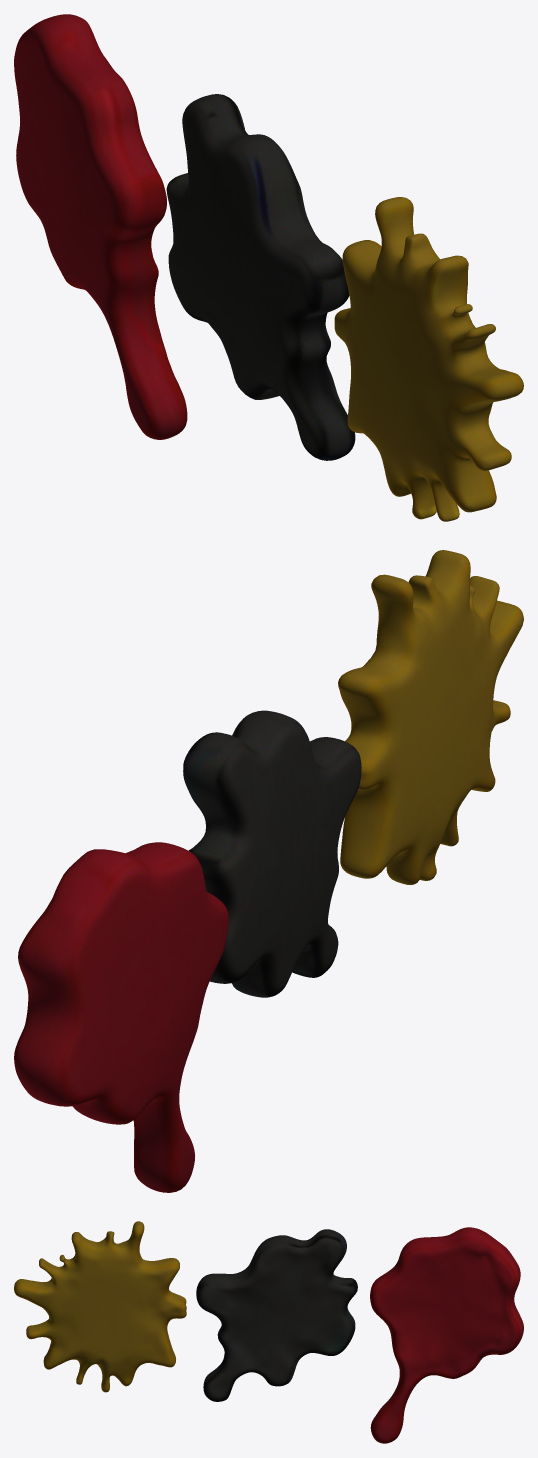
Rendered from ml_job_stain_set.glb.
The picture shows the model from 3 angles, top to bottom: view 1: azimuth 30°, elevation 25°; view 2: azimuth 150°, elevation 25°; view 3: azimuth 270°, elevation 25°; orthographic projection. The views are drawn at different scales.
Visible parts, largest first — view 1: tripo_node_8731d4d3-198a-4d76-b257-8e3a050210d4; view 2: tripo_node_8731d4d3-198a-4d76-b257-8e3a050210d4; view 3: tripo_node_8731d4d3-198a-4d76-b257-8e3a050210d4.
Boxes of the visible parts, x1,y1,x2,y2 form: tripo_node_8731d4d3-198a-4d76-b257-8e3a050210d4: (14, 14, 523, 521); tripo_node_8731d4d3-198a-4d76-b257-8e3a050210d4: (14, 550, 523, 1192); tripo_node_8731d4d3-198a-4d76-b257-8e3a050210d4: (14, 1221, 523, 1443).
Size of the model in its own units: 0.1171 by 0.47 by 0.9795.
1 material, 1 textured.
